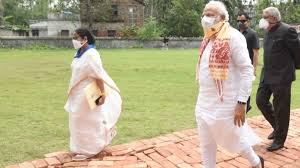Caution: (237, 5, 298, 158)
Good: (63, 1, 231, 168), (191, 2, 300, 166)
